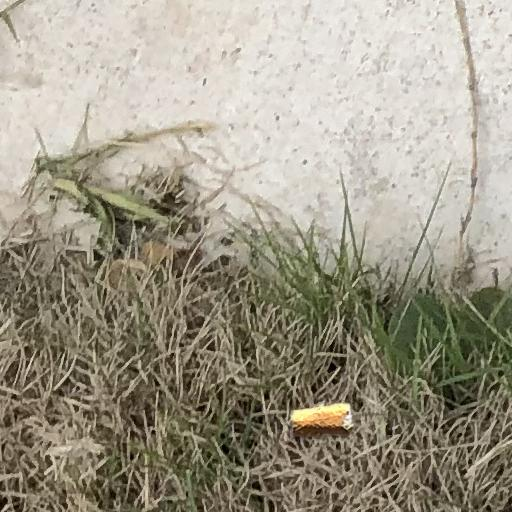smoke: (291, 404, 352, 438)
